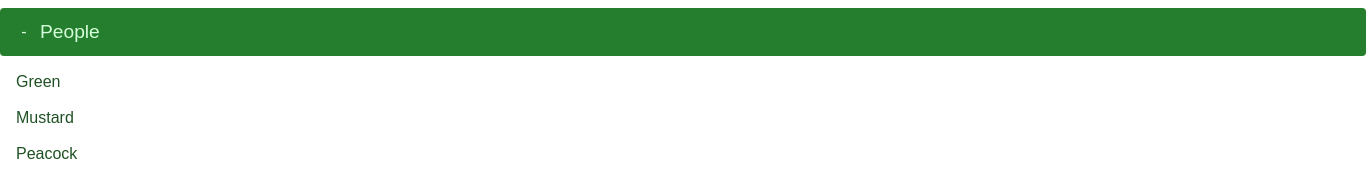
Scenario: Category › hides the suspects when the header is clicked
The image size is (1366, 176).
Step 1. Click the list item with test id "category-header" → (683,32), box x1=0 y1=8 x2=1365 y2=56
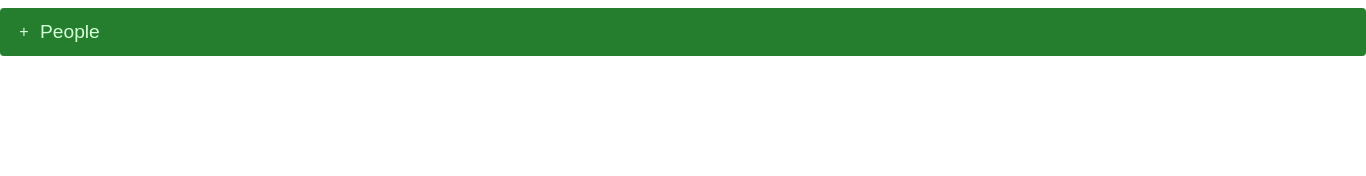
expect the text "+" is shown: met, box x1=19 y1=23 x2=29 y2=40
expect no list items with test id "suspect" are shown: met
